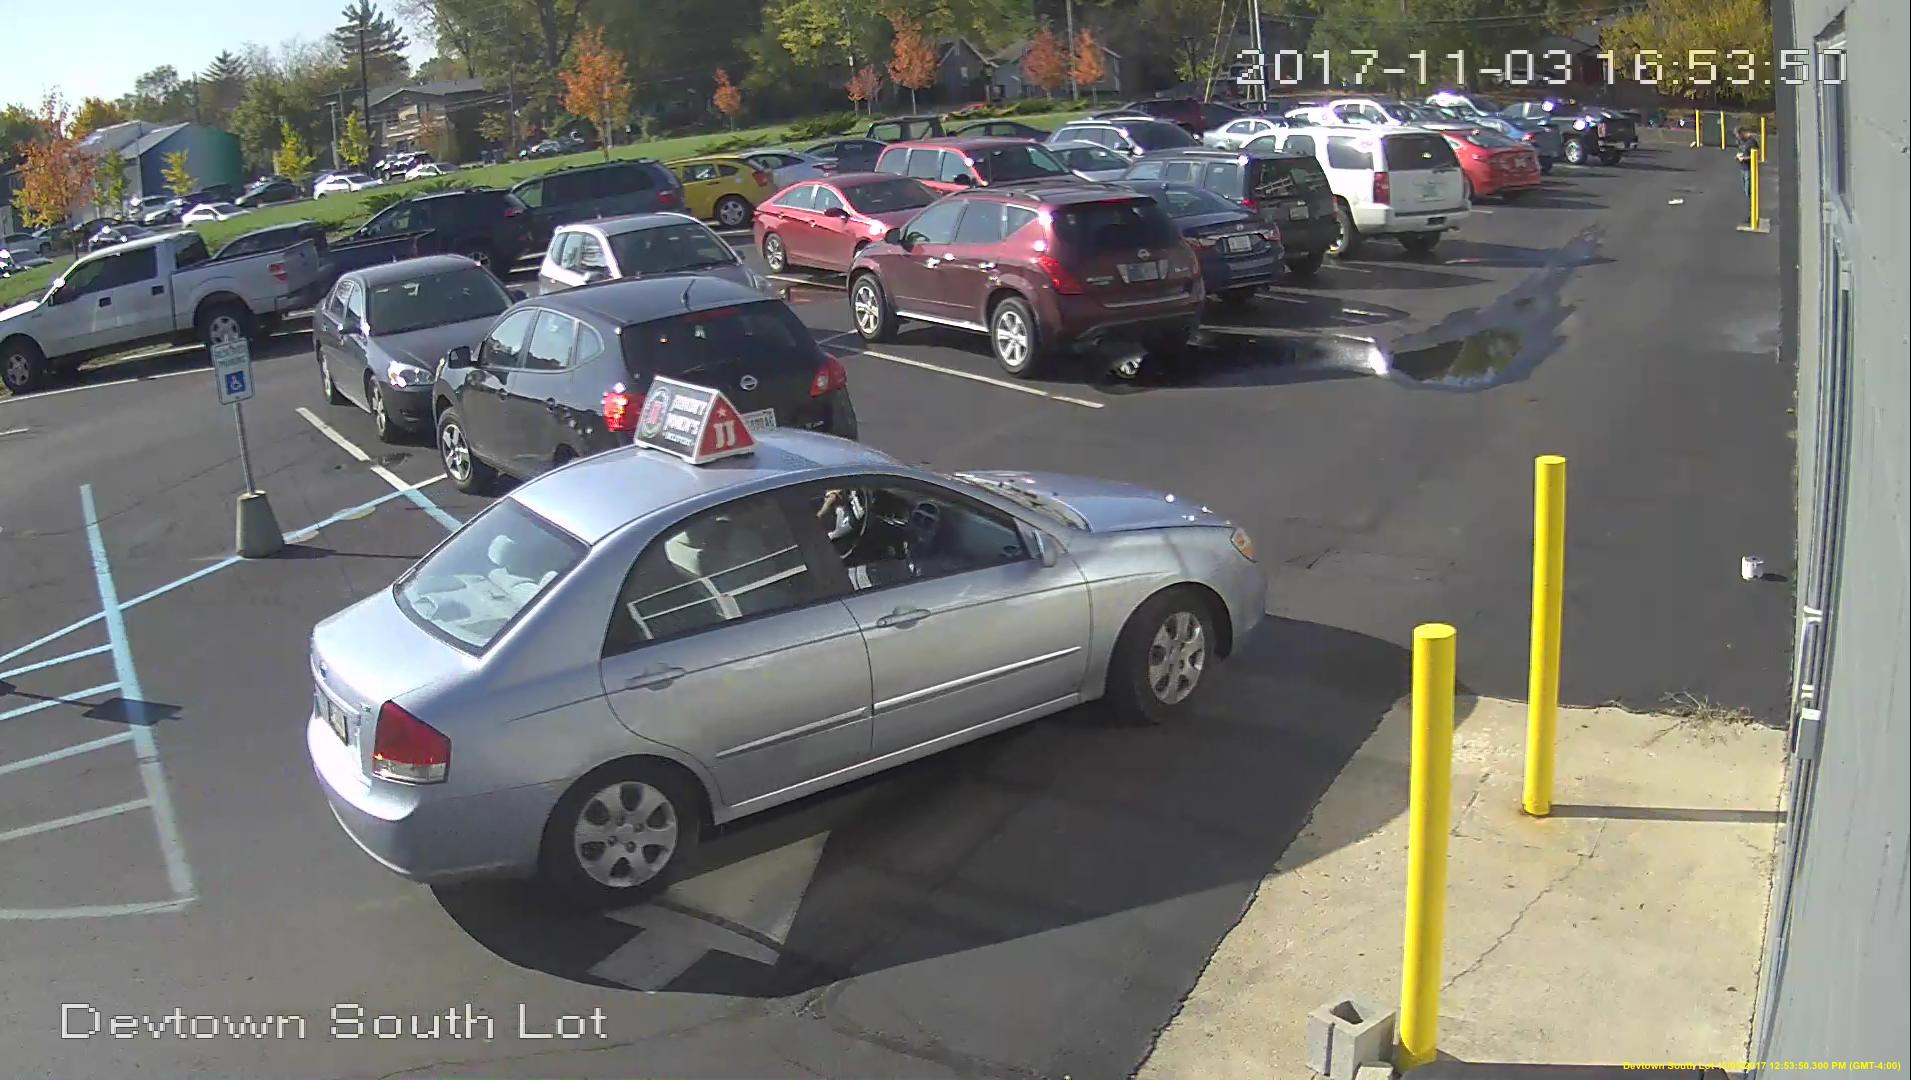jimmy_johns: (634, 373, 759, 461)
